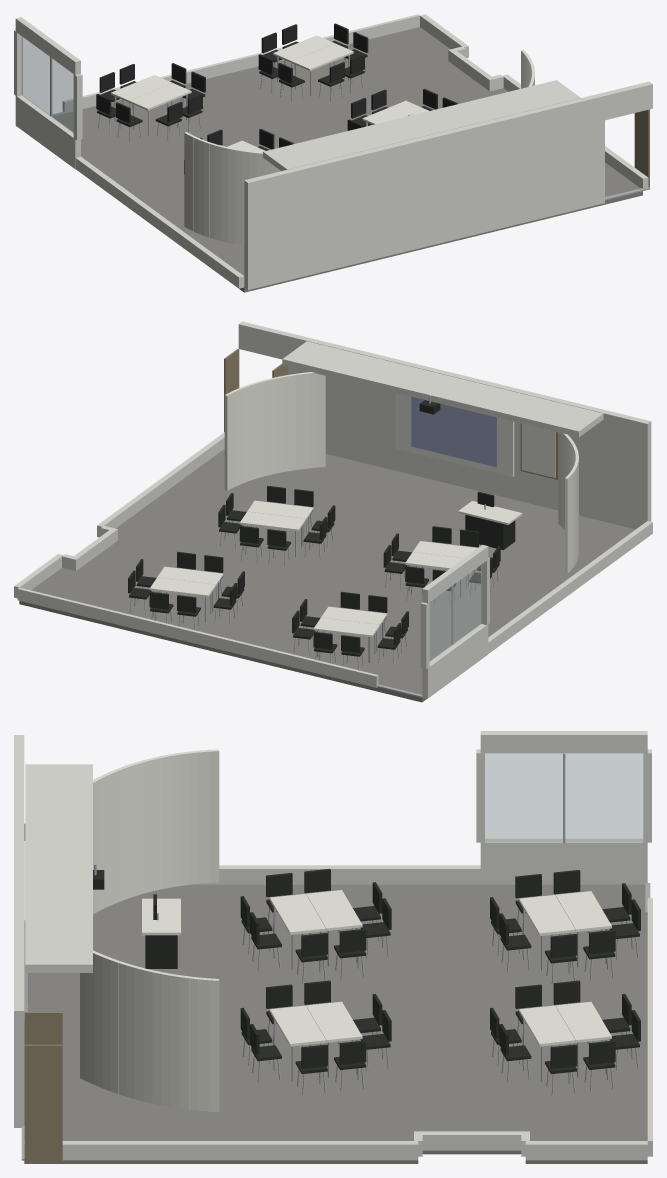
File: old-321-interior-a855251fdbef.glb
3 views of the same model, one above another, from view 1: azimuth 30°, elevation 25°; view 2: azimuth 150°, elevation 25°; view 3: azimuth 270°, elevation 25° (orthographic). The views are drawn at different scales.
Parts seen in each view (by area): view 1: old-321; view 2: old-321; view 3: old-321.
Boxes of the visible parts, left/top/right/bottom form: old-321: left=14, top=14, right=652, bottom=292; old-321: left=14, top=321, right=652, bottom=702; old-321: left=14, top=731, right=652, bottom=1163.
Bounding box in the file's own units: 11.45 × 2.99 × 11.02.
